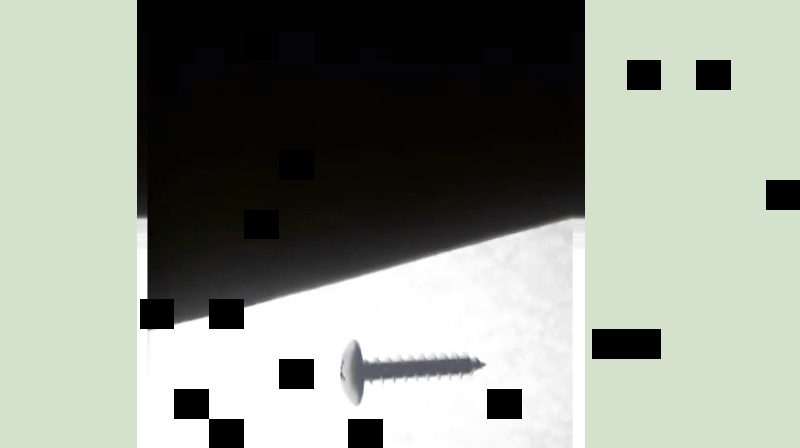S003: (333, 335, 487, 409)
